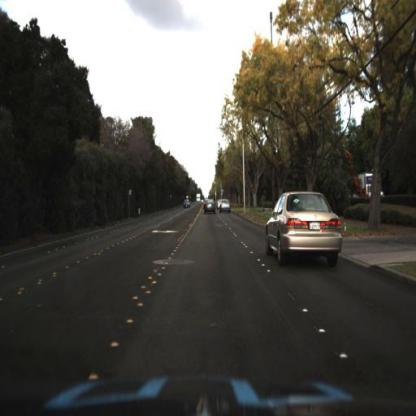car: (258, 186, 345, 268), (200, 196, 220, 220), (219, 193, 237, 219), (183, 196, 192, 211), (217, 199, 223, 213)
truck: (357, 162, 388, 209)
